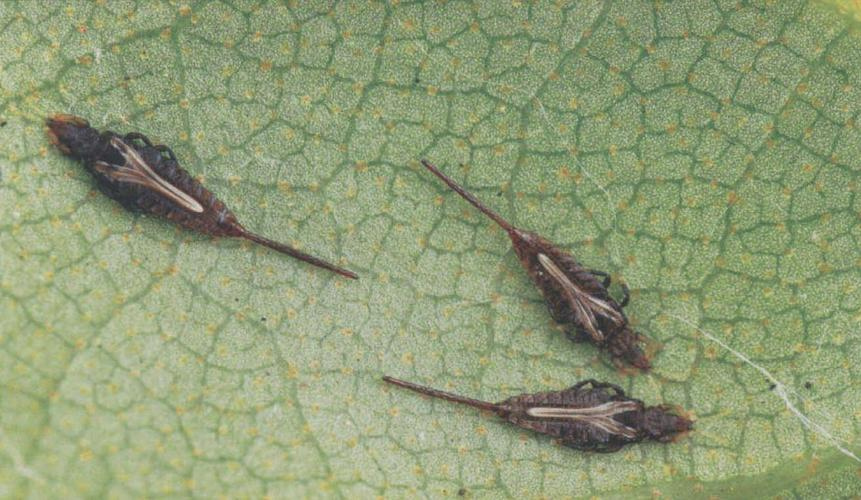Phlaeothripidae: (422, 144, 661, 380), (41, 111, 361, 282), (381, 375, 693, 455)
